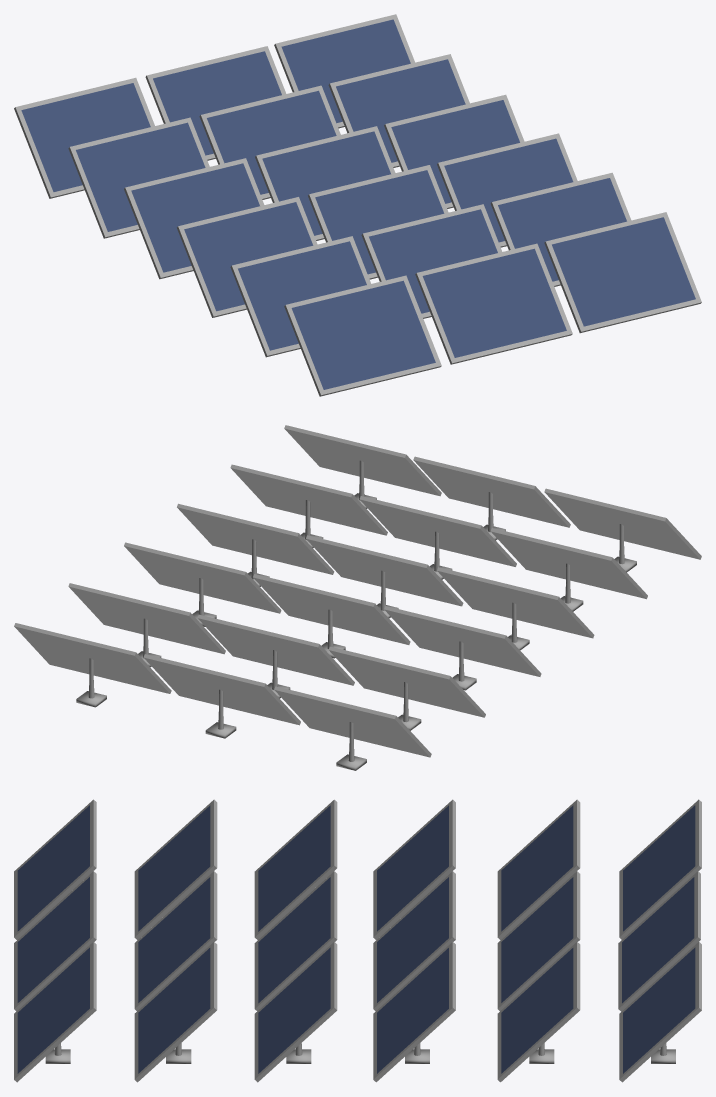
Rendered from SolarPanels_Prototype.fbx.
3 views of the same model, one above another, from view 1: azimuth 30°, elevation 25°; view 2: azimuth 150°, elevation 25°; view 3: azimuth 270°, elevation 25° (orthographic). The views are drawn at different scales.
Visible parts, largest first — view 1: Cylinder.008; view 2: Cylinder.008; view 3: Cylinder.008.
Boxes of the visible parts, x1=… form: Cylinder.008: x1=14, y1=14, x2=701, y2=396; Cylinder.008: x1=14, y1=425, x2=701, y2=770; Cylinder.008: x1=14, y1=799, x2=701, y2=1082.
Bounding box in the file's own units: 2.28 × 0.4292 × 3.18.
